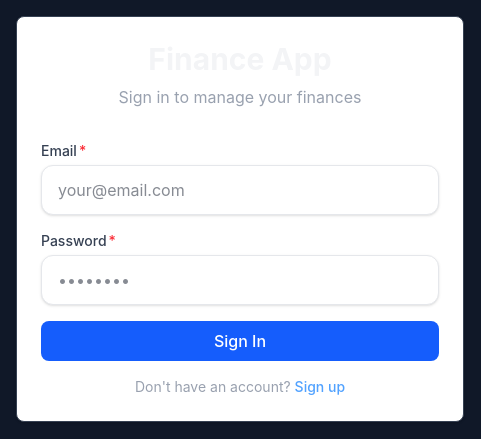
Test: LoginPage › disables button while loading
In the field labelled "Email*": (240, 190) [41, 165, 439, 215], type "a@b.com"
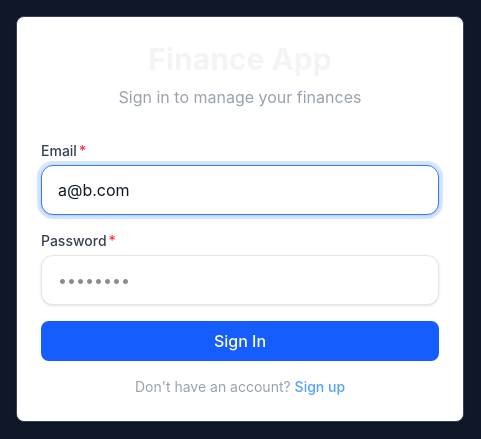
In the password field labelled "Password*": (240, 280) [41, 255, 439, 305], type "pass"
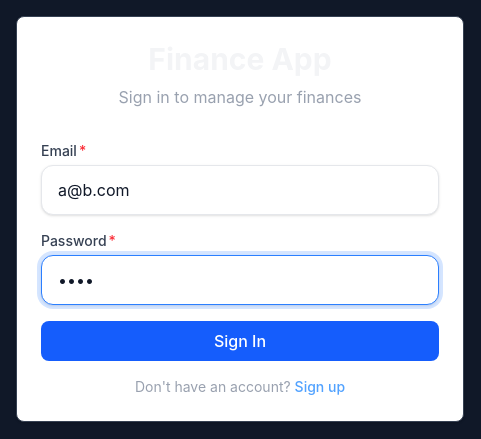
Click the button "Sign In": (240, 341) [41, 321, 439, 361]
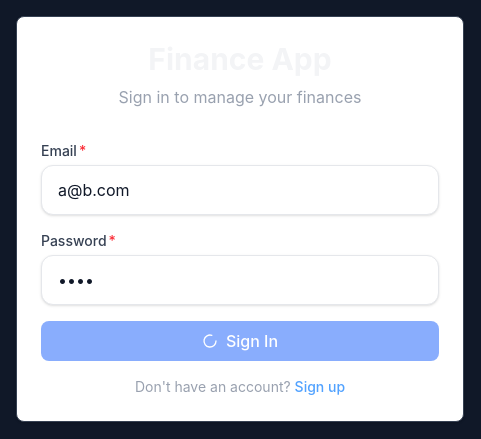
Expected: the button "Sign In" is disabled, [41, 321, 439, 361]
